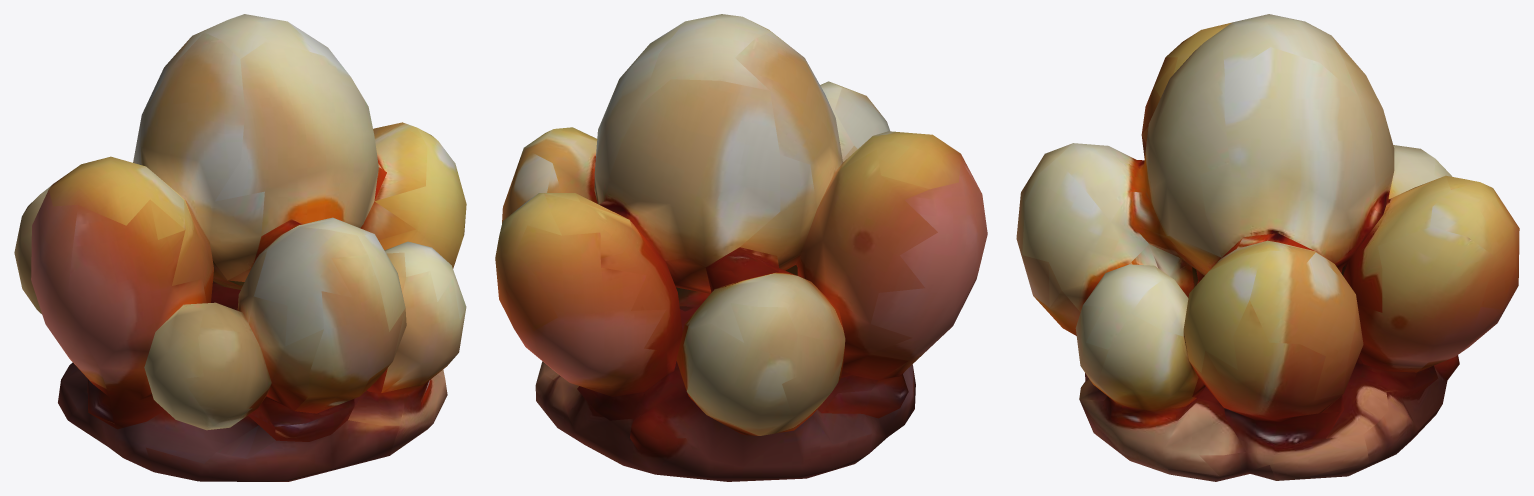
Rendered from egg_cluster.glb.
3 renders of one model, left to right at view 1: azimuth 30°, elevation 25°; view 2: azimuth 150°, elevation 25°; view 3: azimuth 270°, elevation 25°, orthographic.
Parts seen in each view (by area): view 1: geometry_0; view 2: geometry_0; view 3: geometry_0.
Part boxes in pixels (x1,y1,x2,y2): geometry_0: (14,14,466,481); geometry_0: (495,14,987,481); geometry_0: (1016,14,1519,481).
Size of the model in its own units: 1.71 by 1.44 by 1.69.
1 material, 1 textured.
